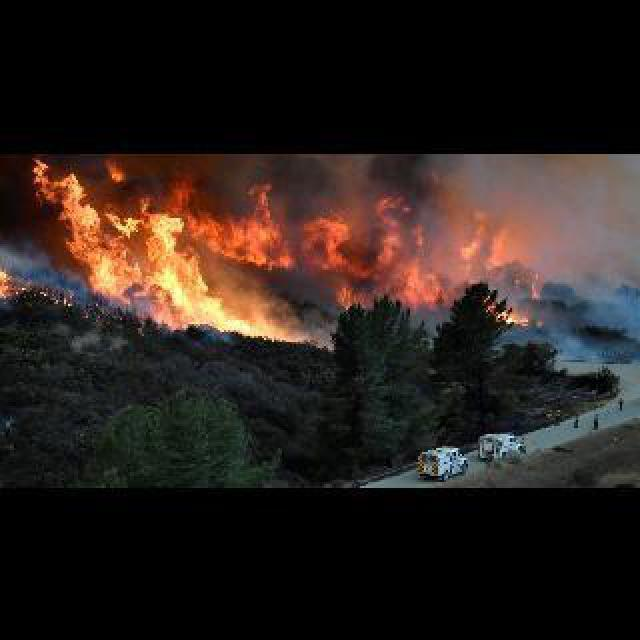Fire: (30, 160, 536, 346)
